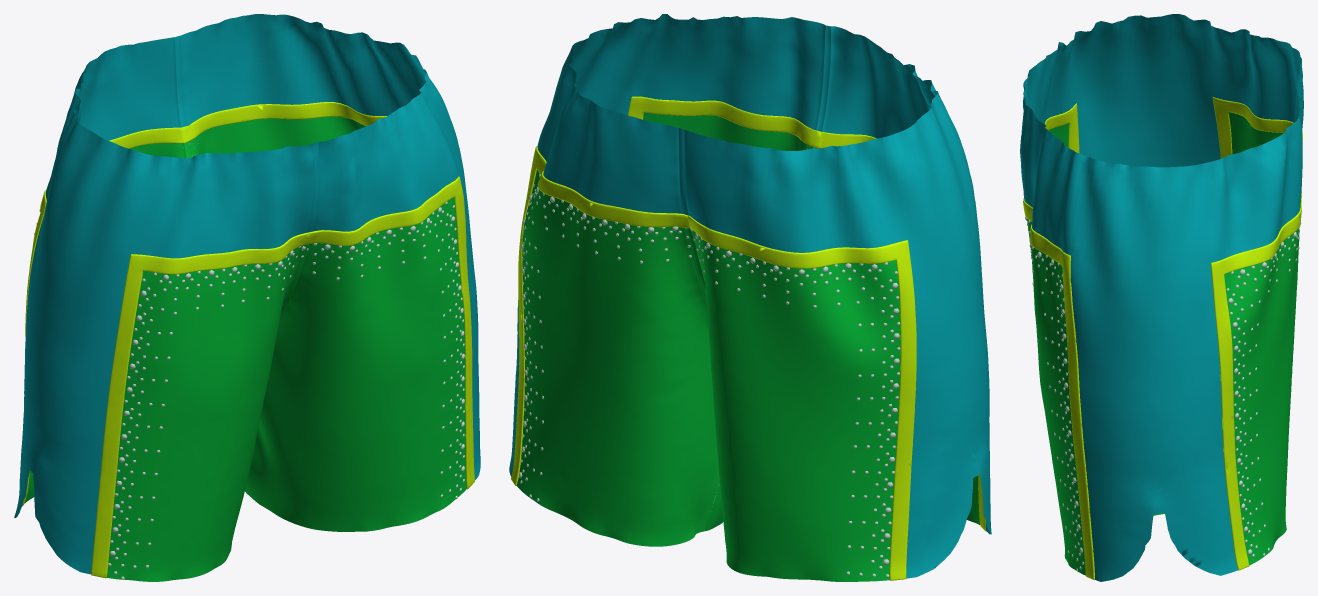
File: BX_4_JOSHUA_CURVED.glb
The picture shows the model from 3 angles, left to right: view 1: azimuth 30°, elevation 25°; view 2: azimuth 150°, elevation 25°; view 3: azimuth 270°, elevation 25°; orthographic projection. The views are drawn at different scales.
Parts seen in each view (by area): view 1: BX_4_JOSHUA_CURVED_1, BX_4_JOSHUA_CURVED_2, BX_4_JOSHUA_CURVED_trim, BX_4_JOSHUA_CURVED_crystals; view 2: BX_4_JOSHUA_CURVED_1, BX_4_JOSHUA_CURVED_2, BX_4_JOSHUA_CURVED_trim, BX_4_JOSHUA_CURVED_crystals; view 3: BX_4_JOSHUA_CURVED_2, BX_4_JOSHUA_CURVED_1, BX_4_JOSHUA_CURVED_trim, BX_4_JOSHUA_CURVED_crystals.
Boxes of the visible parts, bbox=[...] form: BX_4_JOSHUA_CURVED_1: bbox=[24, 116, 466, 581]; BX_4_JOSHUA_CURVED_2: bbox=[14, 14, 480, 574]; BX_4_JOSHUA_CURVED_trim: bbox=[22, 102, 474, 578]; BX_4_JOSHUA_CURVED_crystals: bbox=[34, 140, 464, 579]; BX_4_JOSHUA_CURVED_1: bbox=[516, 112, 980, 581]; BX_4_JOSHUA_CURVED_2: bbox=[509, 14, 991, 578]; BX_4_JOSHUA_CURVED_trim: bbox=[511, 96, 985, 580]; BX_4_JOSHUA_CURVED_crystals: bbox=[519, 174, 900, 577]; BX_4_JOSHUA_CURVED_2: bbox=[1020, 14, 1303, 581]; BX_4_JOSHUA_CURVED_1: bbox=[1027, 112, 1299, 575]; BX_4_JOSHUA_CURVED_trim: bbox=[1023, 97, 1302, 579]; BX_4_JOSHUA_CURVED_crystals: bbox=[1025, 211, 1301, 571].
Bounding box in the file's own units: 5.01 × 4.78 × 2.91.
